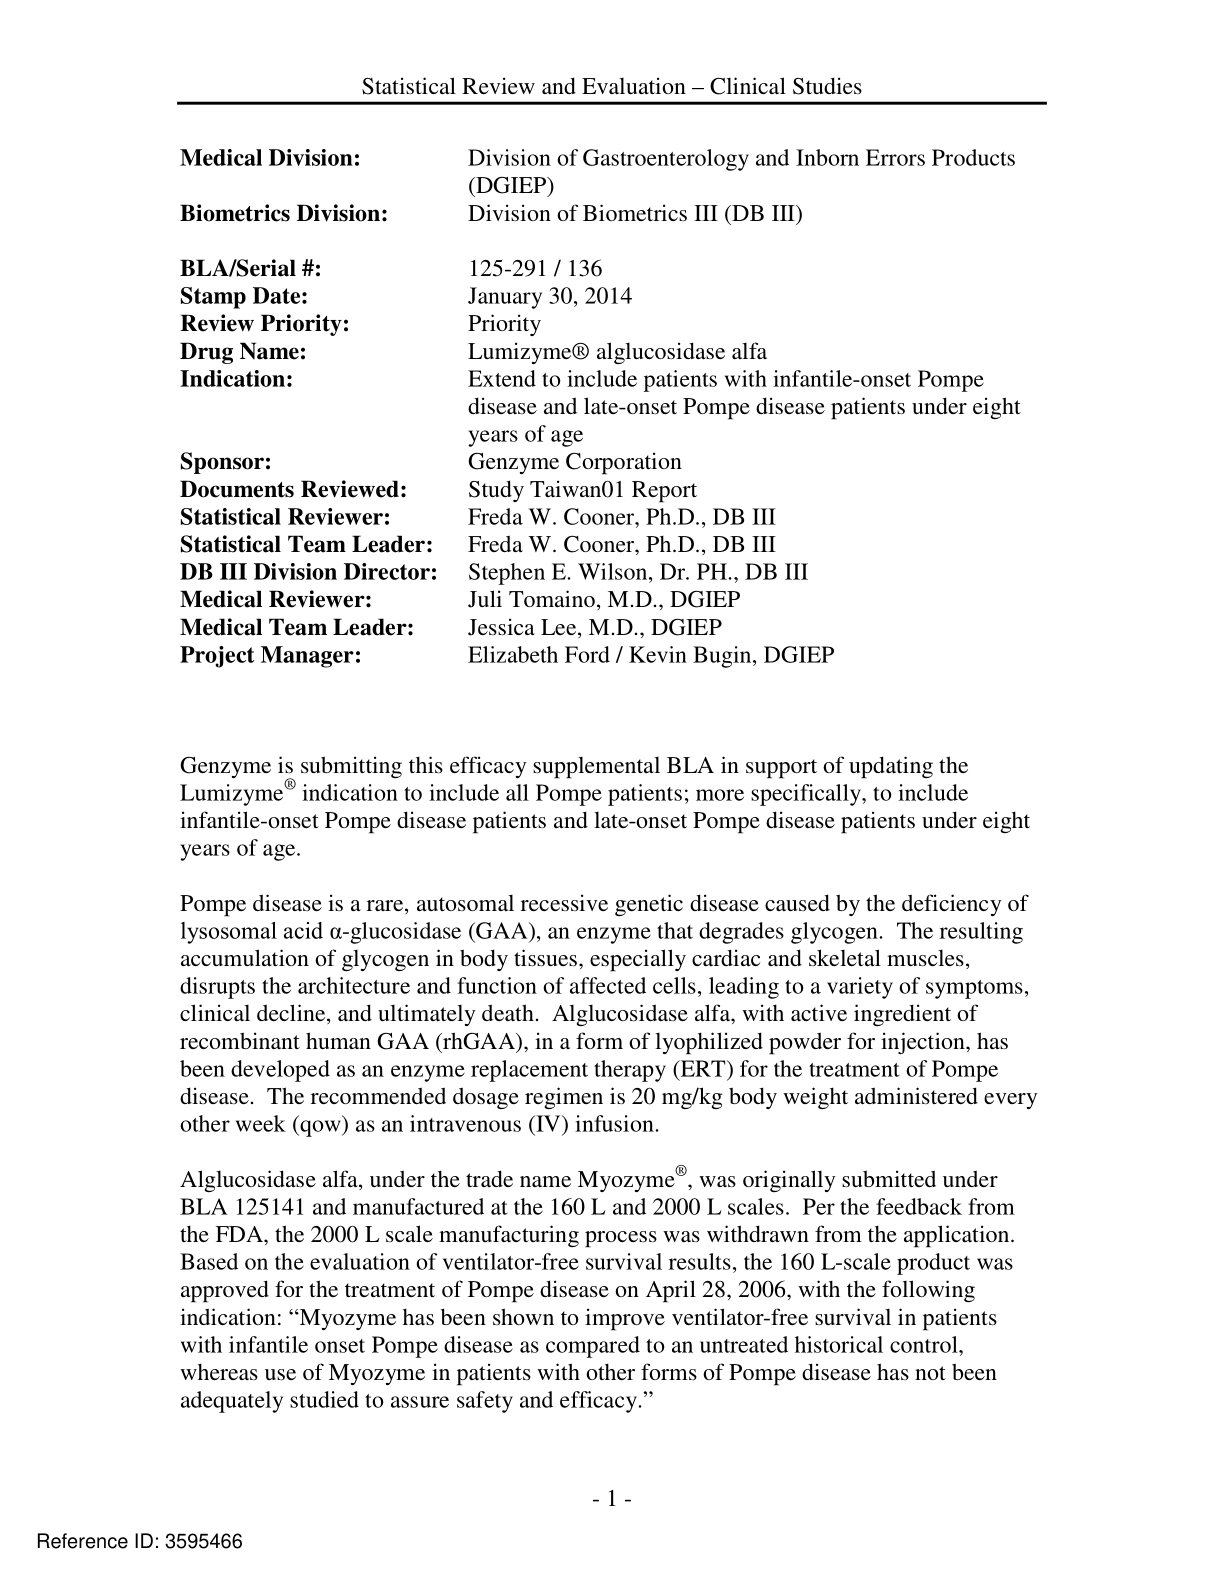nolines: (177, 145, 1026, 670)
